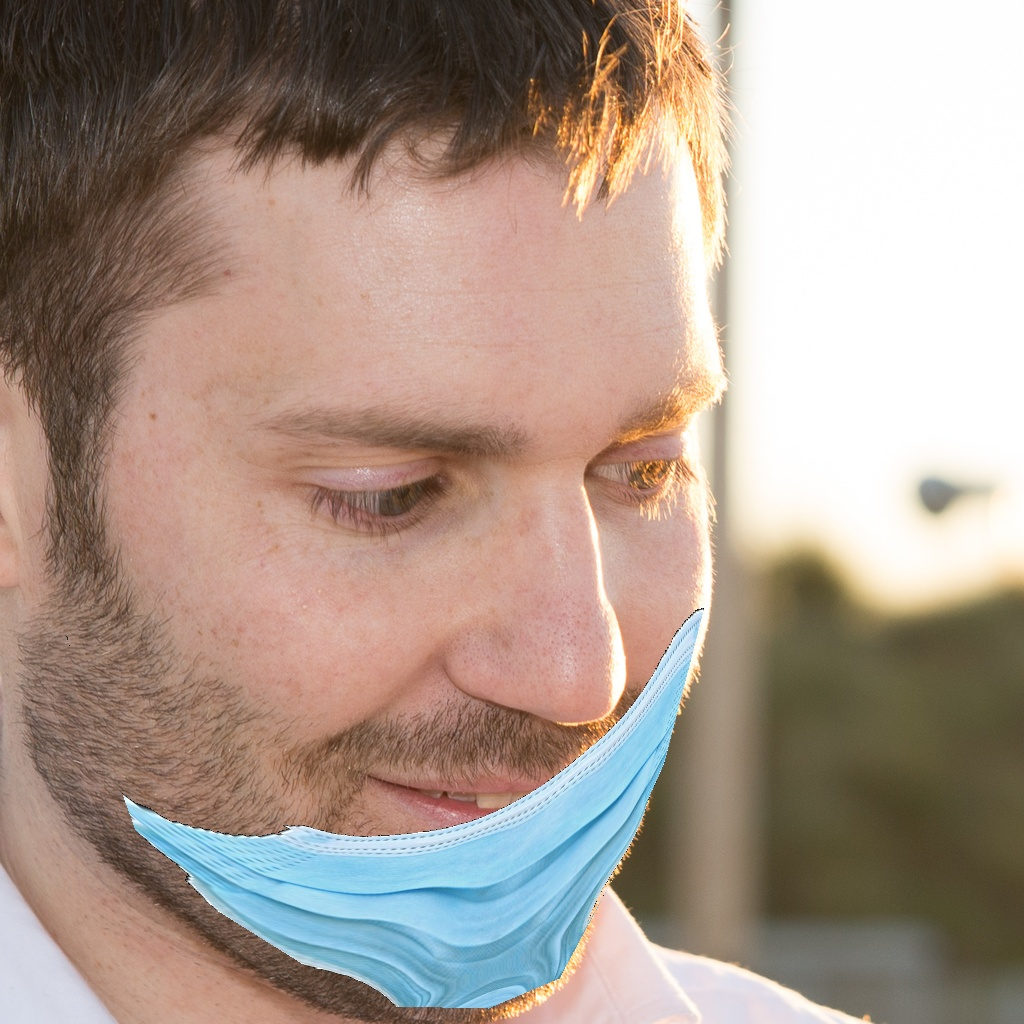mascarilla_mal_puesta: (119, 335, 737, 1024)
